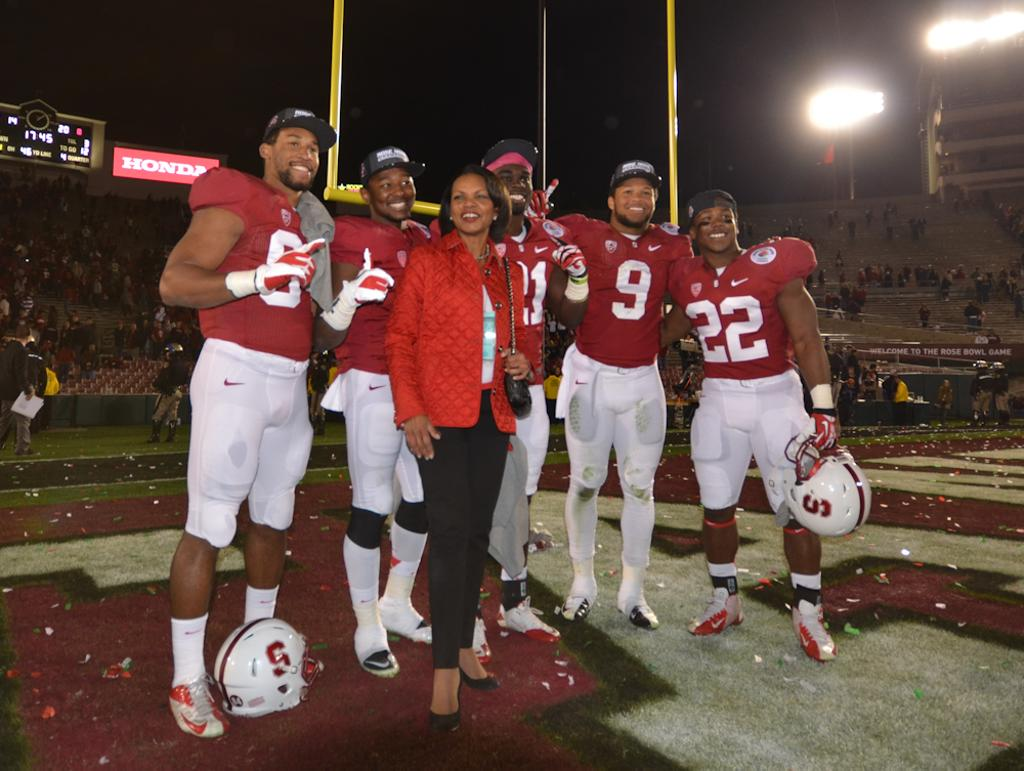face: (274, 127, 319, 186), (371, 164, 416, 215), (614, 176, 655, 224), (451, 183, 492, 229), (494, 163, 533, 210), (698, 205, 735, 250)
